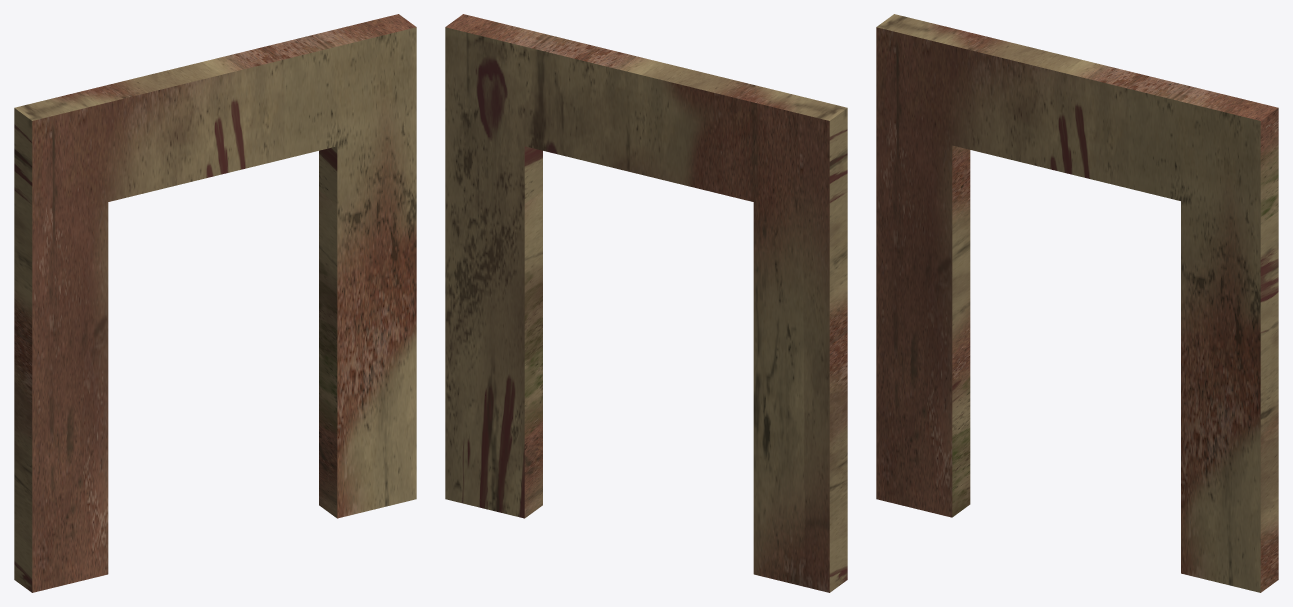
File: wall_door.fbx
The picture shows the model from 3 angles, left to right: view 1: azimuth 30°, elevation 25°; view 2: azimuth 150°, elevation 25°; view 3: azimuth 330°, elevation 25°; orthographic projection.
Visible parts, largest first — view 1: Wall_Door; view 2: Wall_Door; view 3: Wall_Door.
Part boxes in pixels (left/top/right/bottom): Wall_Door: left=14, top=14, right=416, bottom=592; Wall_Door: left=445, top=14, right=847, bottom=592; Wall_Door: left=876, top=14, right=1278, bottom=592.
Size of the model in its own units: 2.7 by 3.17 by 0.2195.
